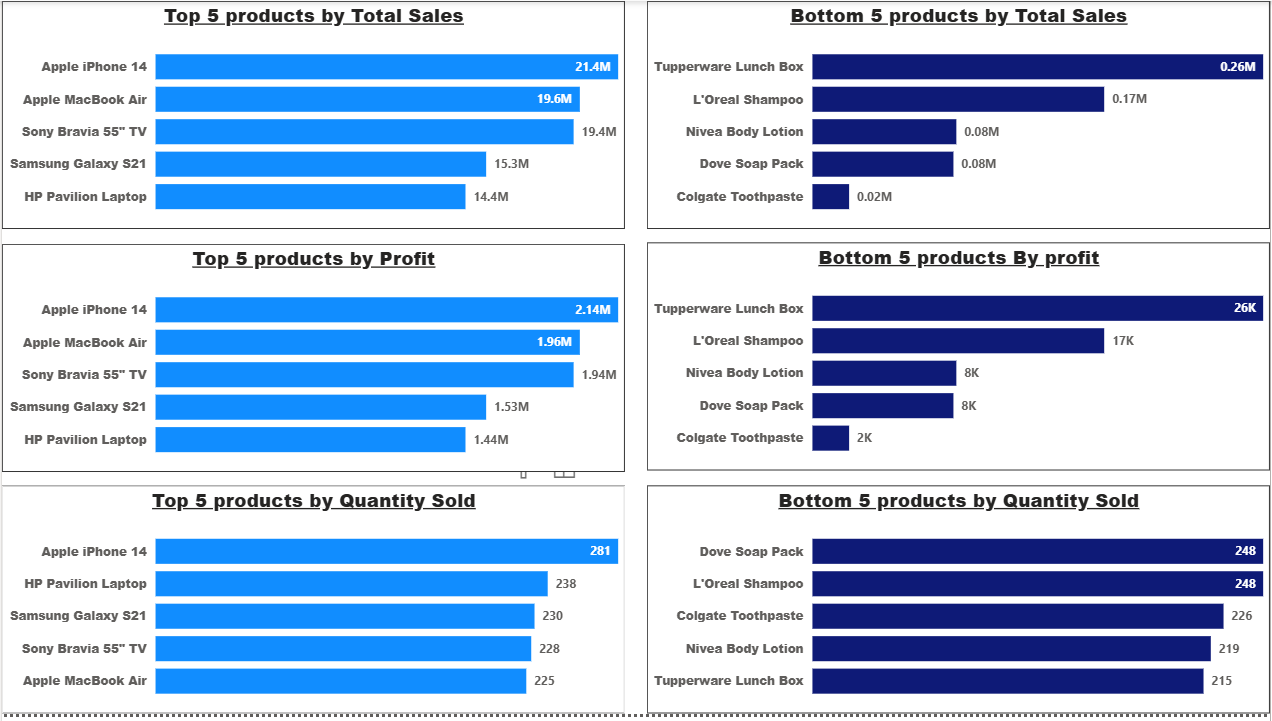

What the dashboard file says about the page in this screenshot:
{"tool":"powerbi","page":{"name":"Top/bottom","canvas":[1280,720],"ordinal":1},"visuals":[{"type":"barChart","title":"Top 5 products by Total Sales","fields":{"Y":["Sum(Sheet3.Net Sales)"],"Category":["Dim Product.Product Name"]},"box":[0,0,628.4,230.2],"z":0},{"type":"barChart","title":"Bottom 5 products by Total Sales","fields":{"Y":["Sum(Sheet3.Net Sales)"],"Category":["Dim Product.Product Name"]},"box":[651.1,0,628.4,230.2],"z":1000},{"type":"barChart","title":"Top 5 products by Quantity Sold","fields":{"Category":["Dim Product.Product Name"],"Y":["Sum(Sheet3.Units Sold)"]},"box":[0,489.1,628.4,230.2],"z":2000},{"type":"barChart","title":"Top 5 products by Profit","fields":{"Y":["Sum(Sheet3.PROFIT )"],"Category":["Dim Product.Product Name"]},"box":[0,245.3,628.4,230.2],"z":3000},{"type":"barChart","title":"Bottom 5 products by Quantity Sold","fields":{"Y":["Sum(Sheet3.Units Sold)"],"Category":["Dim Product.Product Name"]},"box":[651.1,489.1,628.4,230.2],"z":4000},{"type":"barChart","title":"Bottom 5 products By profit","fields":{"Category":["Dim Product.Product Name"],"Y":["Sum(Sheet3.PROFIT )"]},"box":[651.1,243.8,628.4,230.2],"z":5000}]}

Visuals, with their boxes in screenshot pixels (x1, y1, x2, y2), scaled from the page's 1280x720 canvas onto the 1272x721 screenshot:
"Top 5 products by Total Sales" barChart: pyautogui.locateOnScreen(0, 0, 624, 231)
"Bottom 5 products by Total Sales" barChart: pyautogui.locateOnScreen(647, 0, 1271, 231)
"Top 5 products by Quantity Sold" barChart: pyautogui.locateOnScreen(0, 490, 624, 720)
"Top 5 products by Profit" barChart: pyautogui.locateOnScreen(0, 246, 624, 476)
"Bottom 5 products by Quantity Sold" barChart: pyautogui.locateOnScreen(647, 490, 1271, 720)
"Bottom 5 products By profit" barChart: pyautogui.locateOnScreen(647, 244, 1271, 475)
